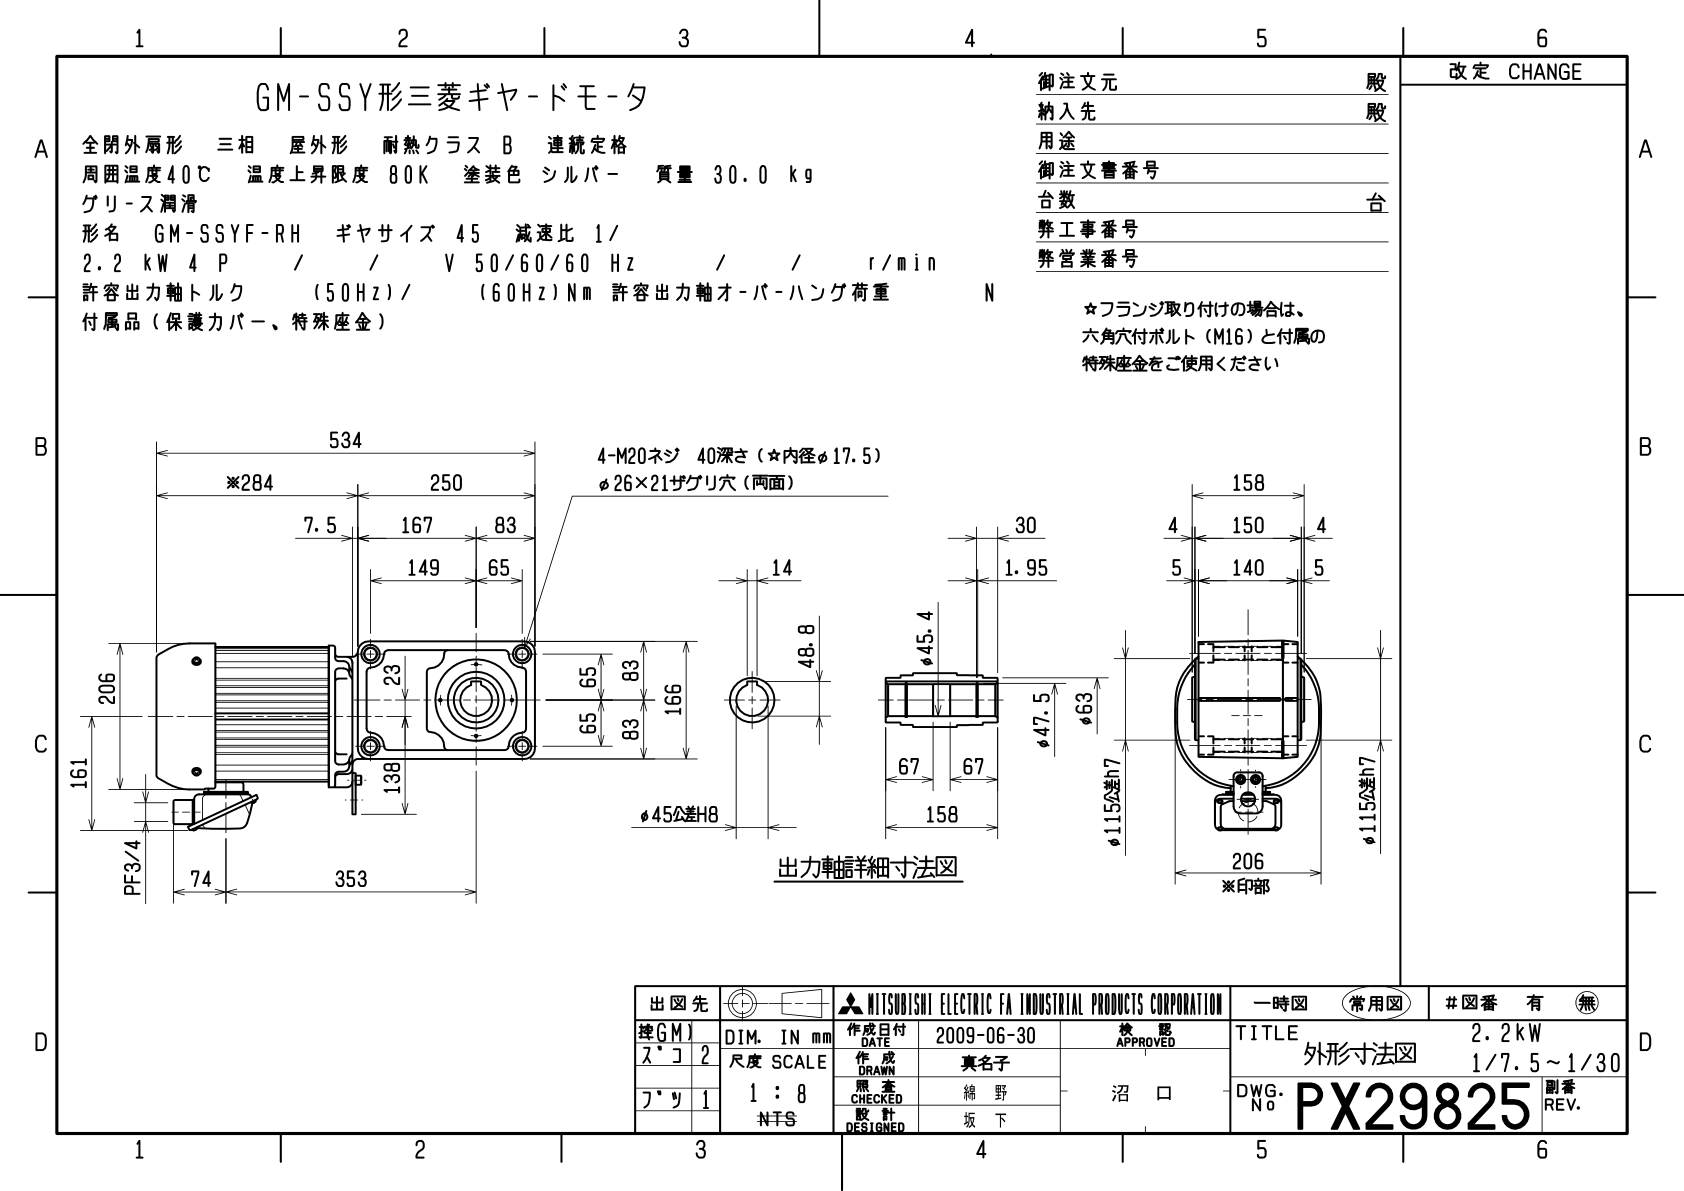GM_SSY_インバータ屋外_三相: (63, 391, 1393, 971)
